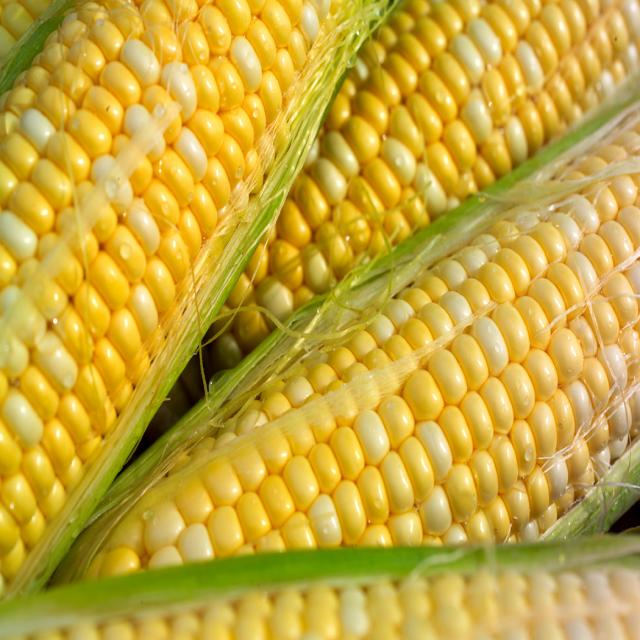corn: (85, 91, 640, 581), (0, 0, 401, 570), (188, 0, 640, 368)
